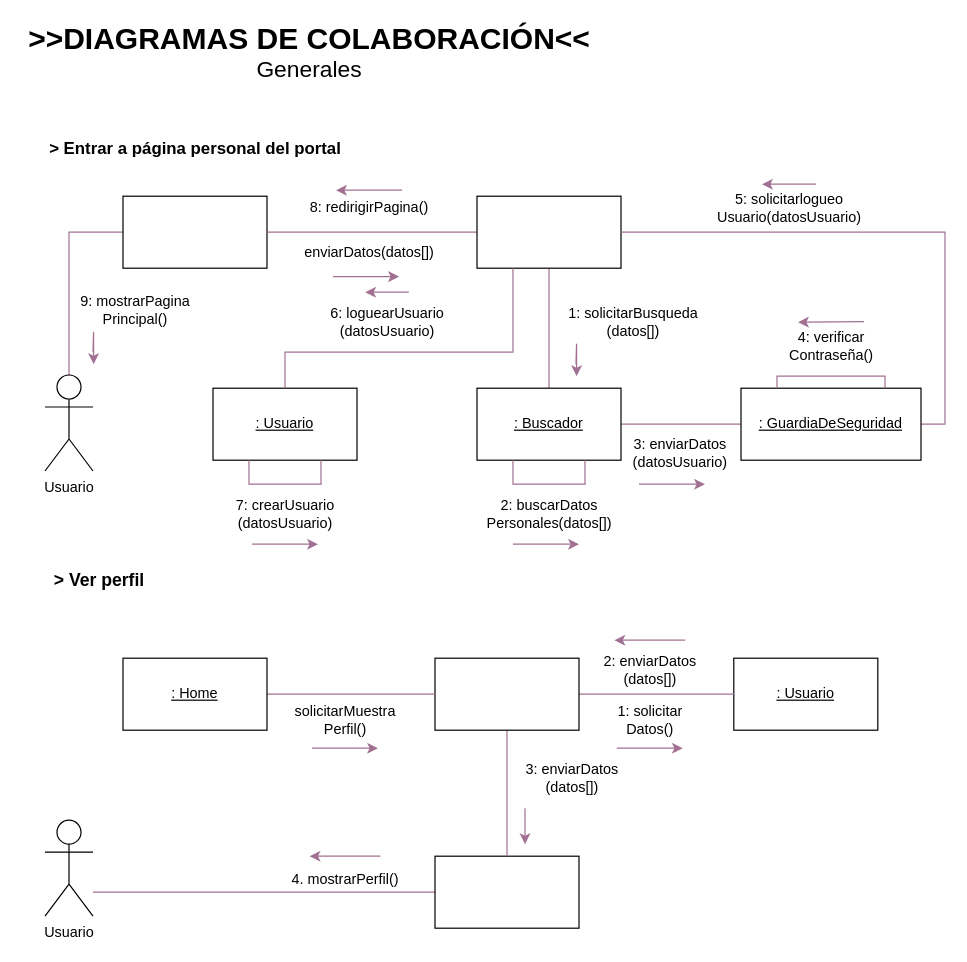
Image size: 967x962. Some labels were removed from this diagram. The shapes that lost their labels are listed below. From the top down, each one's centre as x and y in pixels, then its label:
At point (194, 231): ": PaginaLogin".
At point (548, 231): ": GestorLogin".
At point (506, 693): ": GestorPerfil".
At point (506, 891): ": PaginaPerfil".
